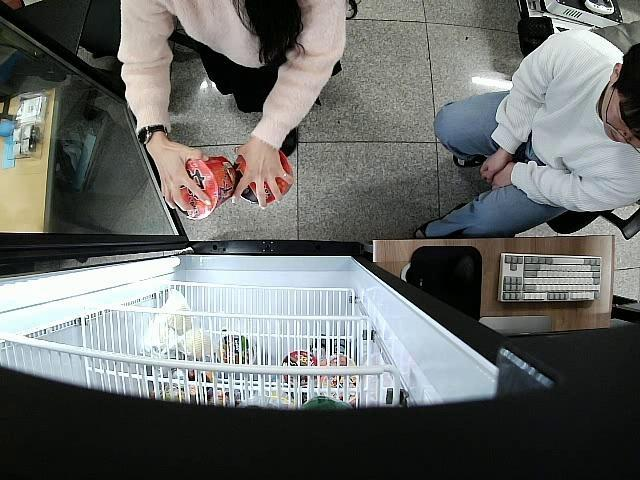01_ShinRamen_L: (179, 157, 234, 219), (234, 153, 292, 202)
